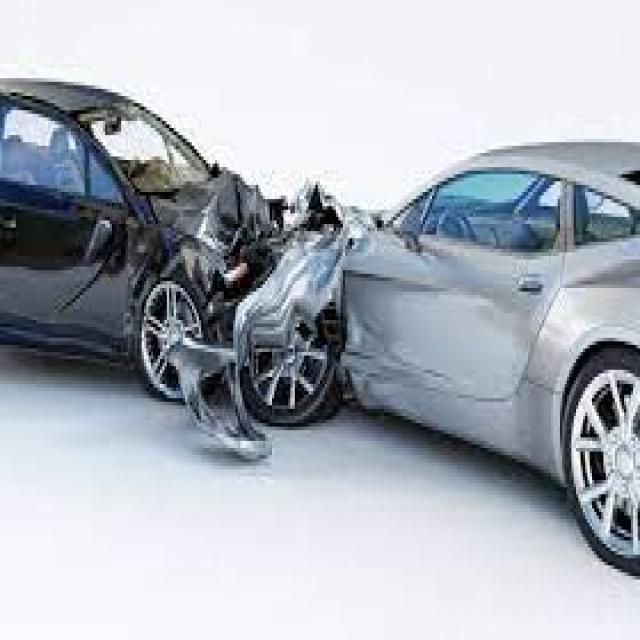accident: (0, 133, 638, 430)
